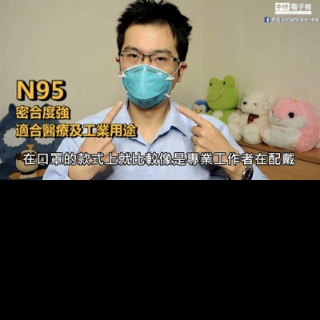with_mask: (120, 44, 178, 108)
